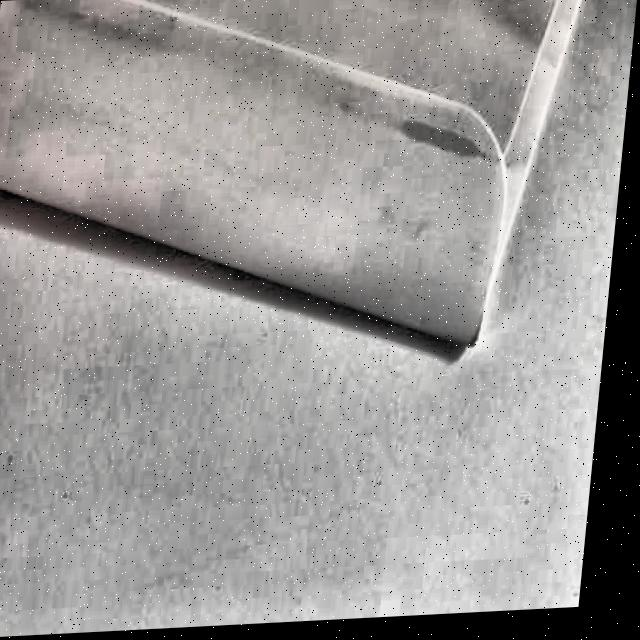paper: (0, 0, 590, 374)
